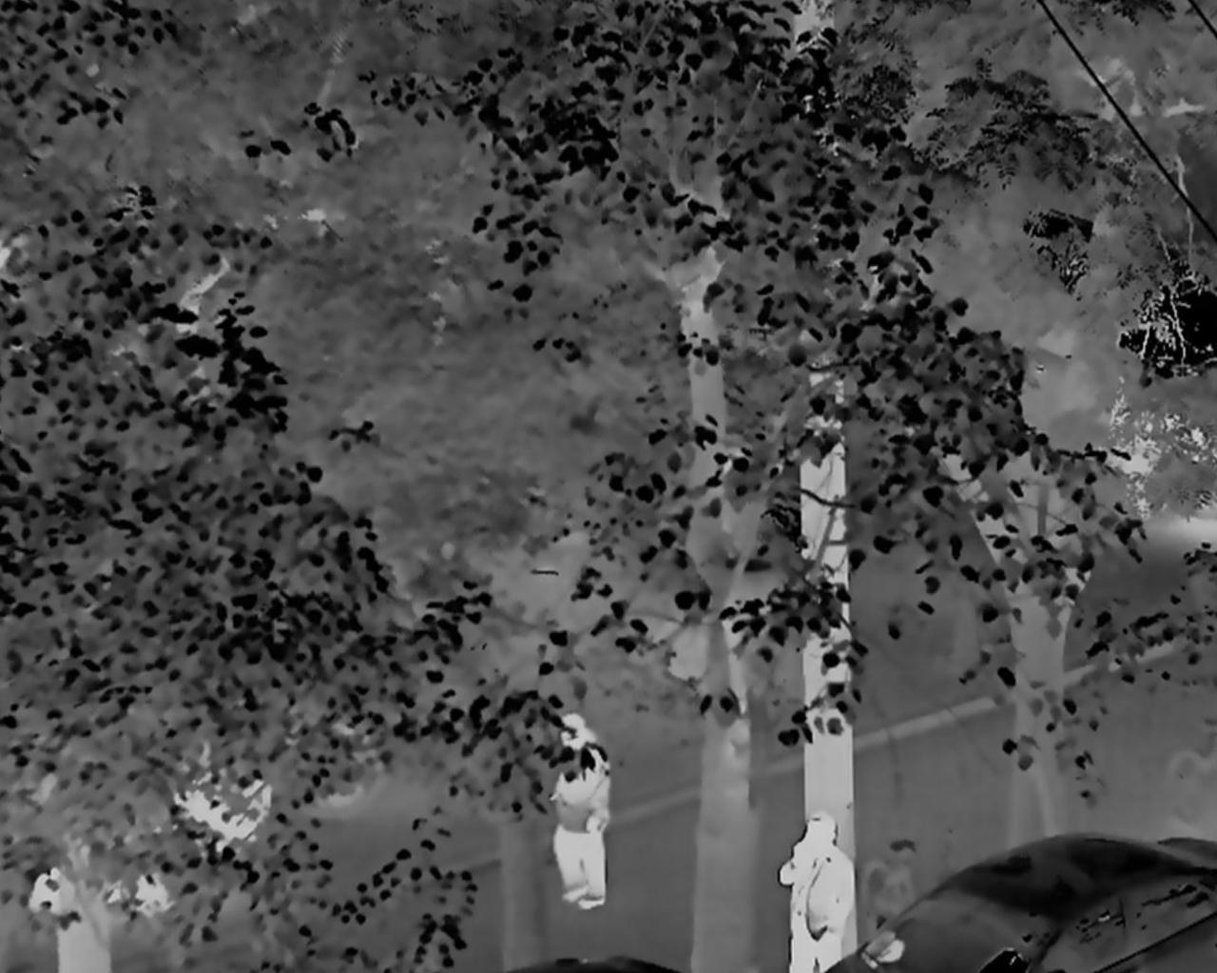person: (552, 709, 615, 913), (785, 811, 863, 973)
